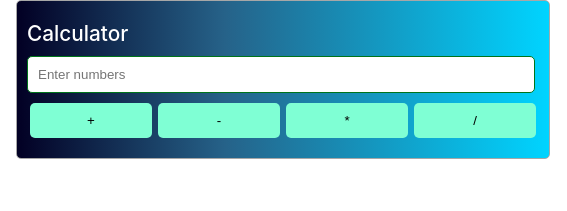
Scenario: Calculator Component › calculates the sum of two comma-separated numbers
The image size is (567, 211).
Type "1,2" into the field with placeholder "Enter numbers". click: (281, 74)
box: [27,56,535,93]
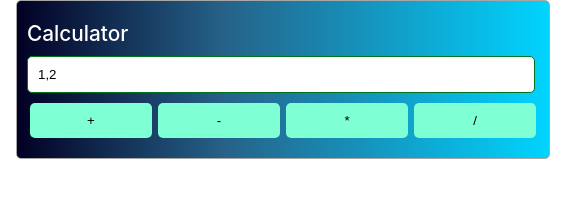
Click the button "+". click: (91, 120)
box: [30,103,152,138]
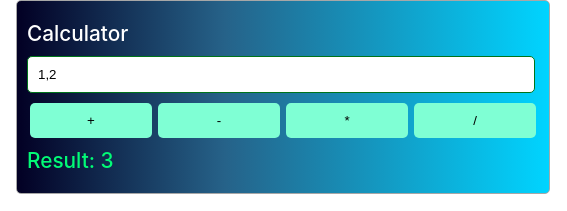
Expected: the text "Result: 3" is shown, [27,148,114,173]
